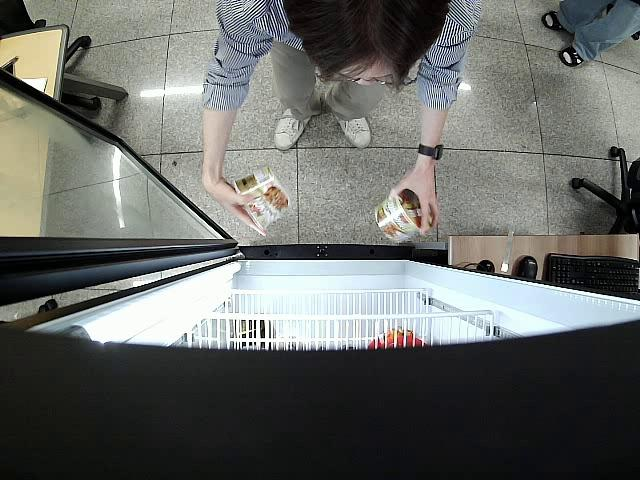00_hand: (203, 176, 268, 242), (389, 171, 441, 236)
03_chapagetti_L: (373, 184, 435, 247), (229, 169, 287, 235)
